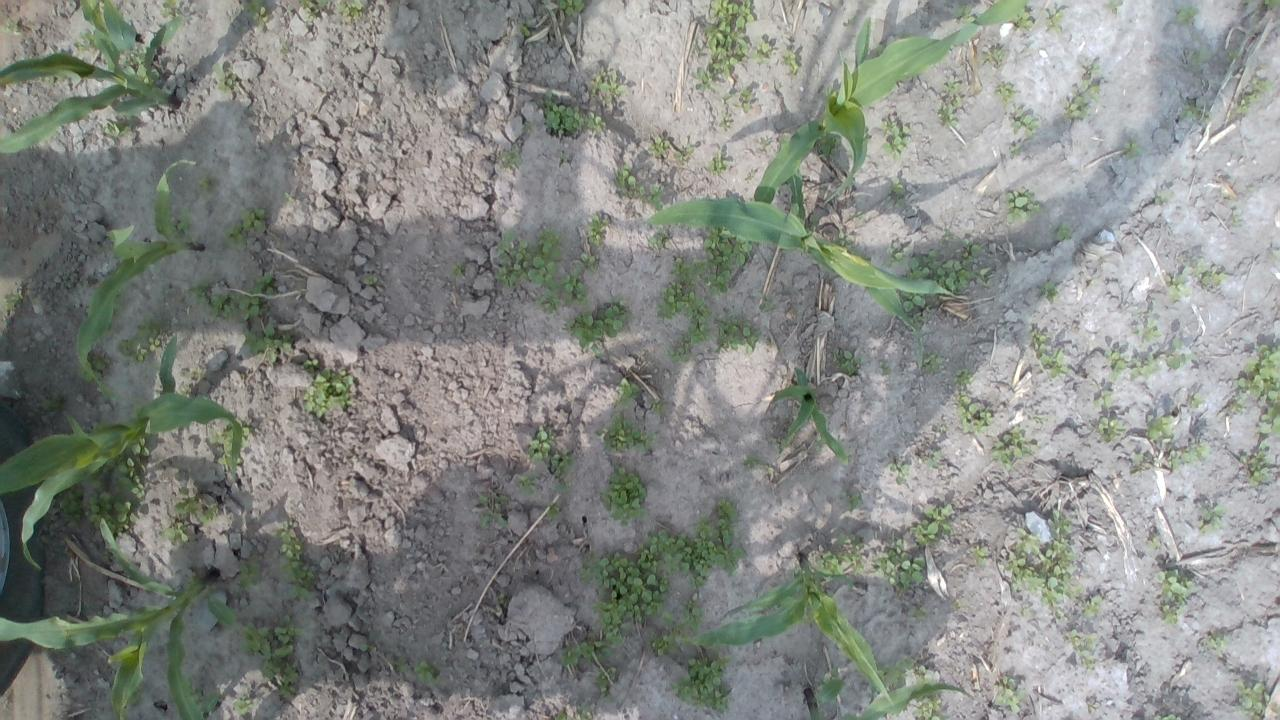Maize: (748, 1, 1024, 207), (0, 338, 243, 570), (0, 516, 241, 720), (646, 195, 954, 326), (72, 160, 198, 398), (682, 555, 889, 696), (0, 0, 181, 154), (771, 367, 850, 465), (802, 678, 972, 720)
Weeds: (582, 550, 674, 648), (1003, 528, 1080, 622), (86, 434, 150, 542), (694, 0, 755, 103), (689, 495, 748, 589), (238, 612, 302, 698), (704, 224, 754, 296), (569, 296, 634, 350), (671, 655, 730, 714), (208, 274, 276, 322), (871, 538, 926, 592), (656, 258, 704, 319), (280, 520, 316, 600), (600, 466, 648, 524), (1232, 340, 1280, 397), (303, 368, 354, 418), (812, 534, 864, 581), (599, 412, 656, 454), (221, 207, 267, 253), (879, 656, 937, 692), (990, 424, 1033, 472), (530, 226, 562, 290), (648, 529, 692, 575), (542, 90, 584, 138), (120, 316, 162, 362), (494, 230, 528, 286), (242, 324, 291, 362), (910, 504, 954, 546), (211, 420, 250, 466), (713, 317, 760, 355), (590, 64, 630, 106), (1232, 678, 1272, 720), (1062, 80, 1102, 122), (953, 393, 992, 434), (174, 488, 216, 526), (1241, 440, 1276, 485), (1154, 568, 1194, 606), (897, 289, 930, 335), (1005, 189, 1047, 224), (562, 640, 614, 668), (879, 119, 911, 161), (938, 257, 974, 294), (1190, 256, 1228, 291), (651, 624, 690, 658), (935, 79, 962, 128), (1235, 80, 1274, 112), (1038, 348, 1074, 380), (992, 676, 1024, 712), (558, 271, 589, 308), (613, 161, 644, 198), (123, 42, 149, 86), (480, 492, 510, 530), (1170, 439, 1209, 468), (550, 448, 574, 494), (1006, 106, 1040, 138), (239, 0, 270, 33), (527, 425, 554, 462), (910, 248, 939, 282), (1258, 390, 1280, 434), (191, 686, 222, 717), (1096, 415, 1126, 446), (236, 558, 264, 591), (615, 377, 642, 410), (680, 593, 702, 632), (913, 694, 946, 720), (59, 481, 83, 516), (170, 206, 193, 242), (1164, 340, 1192, 369), (689, 308, 710, 346), (1128, 352, 1158, 378), (594, 666, 617, 699), (1200, 505, 1227, 533), (1147, 414, 1175, 441), (588, 211, 609, 247), (831, 349, 861, 374), (414, 660, 440, 688), (0, 288, 26, 316), (210, 62, 234, 92), (640, 182, 664, 211), (918, 350, 944, 376), (232, 693, 259, 718), (70, 28, 98, 52), (1164, 274, 1186, 304), (886, 239, 910, 266), (164, 522, 191, 546), (816, 134, 840, 160), (334, 0, 364, 20), (1136, 320, 1161, 344), (1106, 350, 1126, 380), (96, 120, 129, 138), (669, 334, 690, 362), (646, 134, 670, 158), (1183, 102, 1211, 122), (574, 252, 600, 273), (537, 289, 560, 312), (1048, 509, 1070, 533), (888, 461, 910, 485), (38, 395, 62, 417), (1012, 8, 1034, 31), (1044, 8, 1063, 34), (1038, 280, 1060, 302), (517, 474, 538, 497), (1122, 140, 1146, 160), (706, 151, 726, 175), (980, 46, 1004, 66), (189, 280, 209, 304), (952, 4, 976, 24), (1176, 5, 1201, 24), (781, 49, 800, 74), (1205, 634, 1231, 652), (754, 39, 775, 61), (298, 0, 318, 23), (559, 0, 586, 17), (1030, 328, 1049, 352), (736, 87, 754, 112), (501, 149, 522, 170), (1082, 594, 1104, 614), (88, 352, 112, 370), (997, 82, 1015, 105), (960, 238, 981, 257), (1162, 603, 1180, 625), (584, 112, 606, 130), (890, 176, 904, 204), (952, 367, 973, 385), (1070, 632, 1096, 646), (1, 16, 21, 34), (128, 684, 144, 706), (38, 74, 63, 88), (1094, 390, 1113, 408), (1154, 190, 1174, 207), (647, 232, 667, 249), (1078, 649, 1094, 670), (1192, 47, 1210, 65), (975, 264, 993, 282), (972, 543, 989, 562), (1226, 399, 1248, 413), (160, 0, 178, 17), (836, 231, 856, 246), (1007, 143, 1024, 160), (1056, 224, 1072, 241), (823, 666, 840, 682), (175, 382, 192, 398), (928, 447, 943, 465), (1188, 391, 1204, 407), (577, 704, 593, 720), (452, 262, 466, 280), (912, 606, 928, 621), (1083, 62, 1099, 77), (678, 144, 692, 161), (546, 503, 559, 521), (395, 656, 409, 672), (758, 298, 774, 312), (1224, 50, 1238, 65), (282, 191, 296, 206), (1104, 0, 1120, 13), (848, 495, 864, 508), (651, 398, 662, 416), (718, 115, 732, 129), (79, 368, 93, 382), (1152, 713, 1180, 720), (878, 359, 890, 375), (1148, 534, 1161, 548), (554, 707, 568, 720), (304, 358, 320, 369), (743, 456, 759, 467), (1263, 0, 1280, 10), (850, 210, 864, 222), (518, 22, 530, 36), (54, 648, 74, 656), (524, 118, 537, 130), (941, 229, 953, 242), (775, 440, 786, 454), (1230, 211, 1240, 226), (198, 176, 208, 191), (814, 436, 826, 448), (1032, 415, 1048, 424), (278, 44, 290, 55), (358, 642, 369, 652), (762, 137, 774, 146), (366, 276, 376, 286), (558, 152, 568, 162), (824, 86, 834, 96), (196, 392, 208, 400), (850, 14, 859, 24), (1136, 453, 1144, 464), (318, 0, 330, 7), (875, 46, 884, 55), (812, 213, 818, 224), (1244, 0, 1253, 5)
